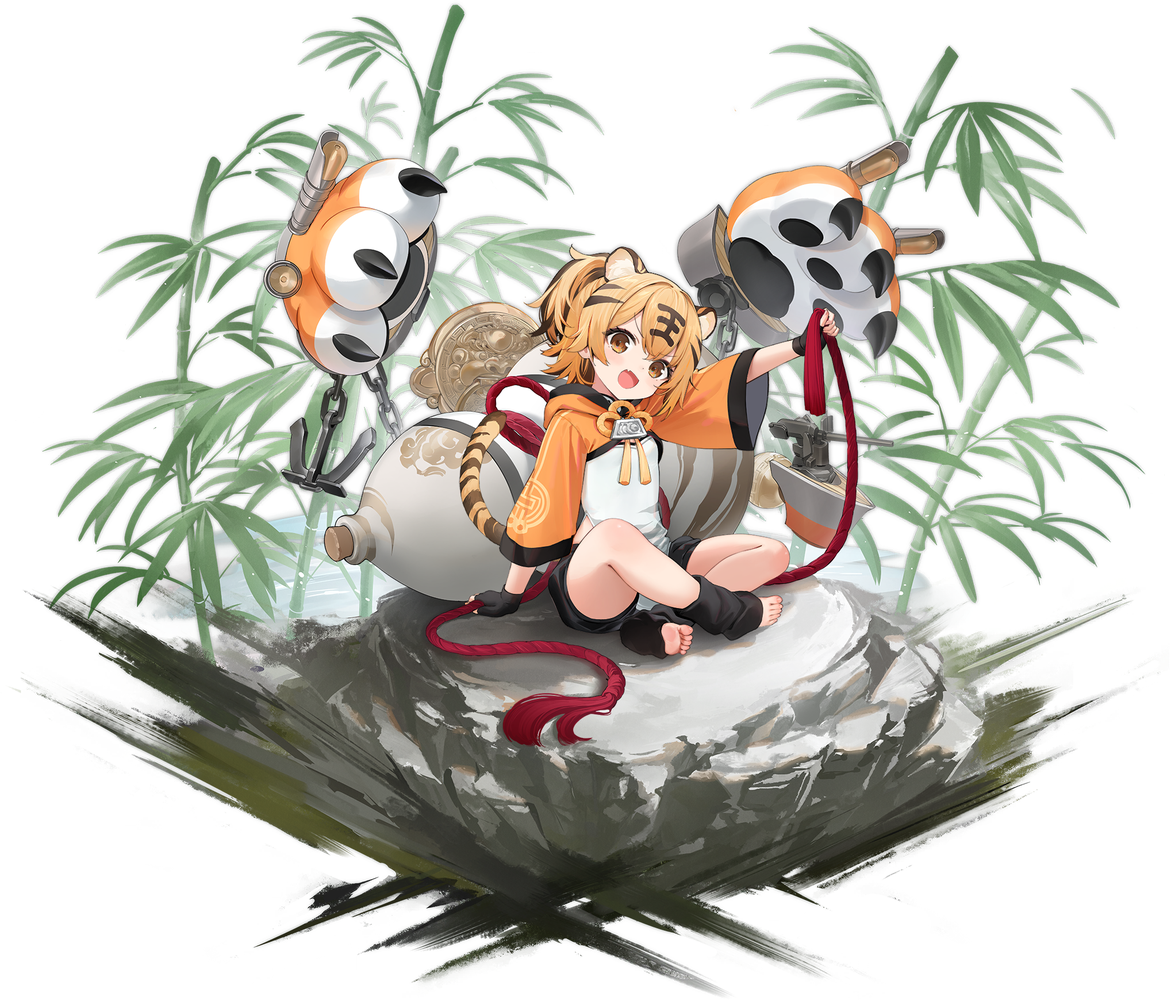person: (122, 240, 808, 676)
